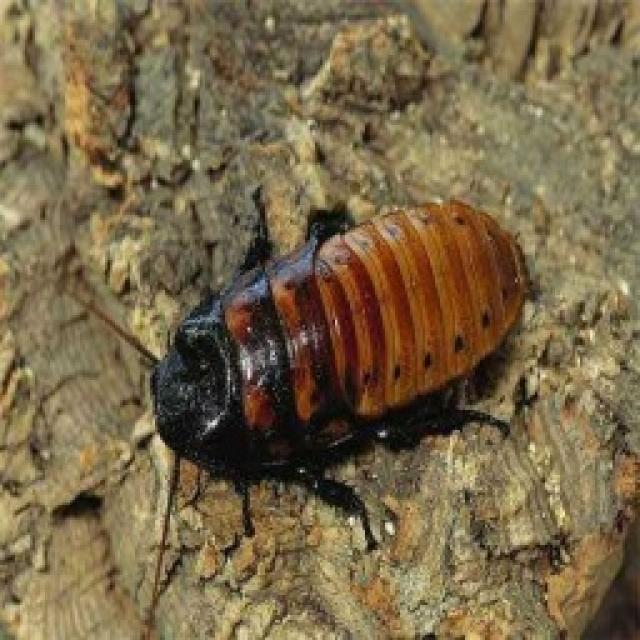cockroach: (126, 159, 568, 518)
